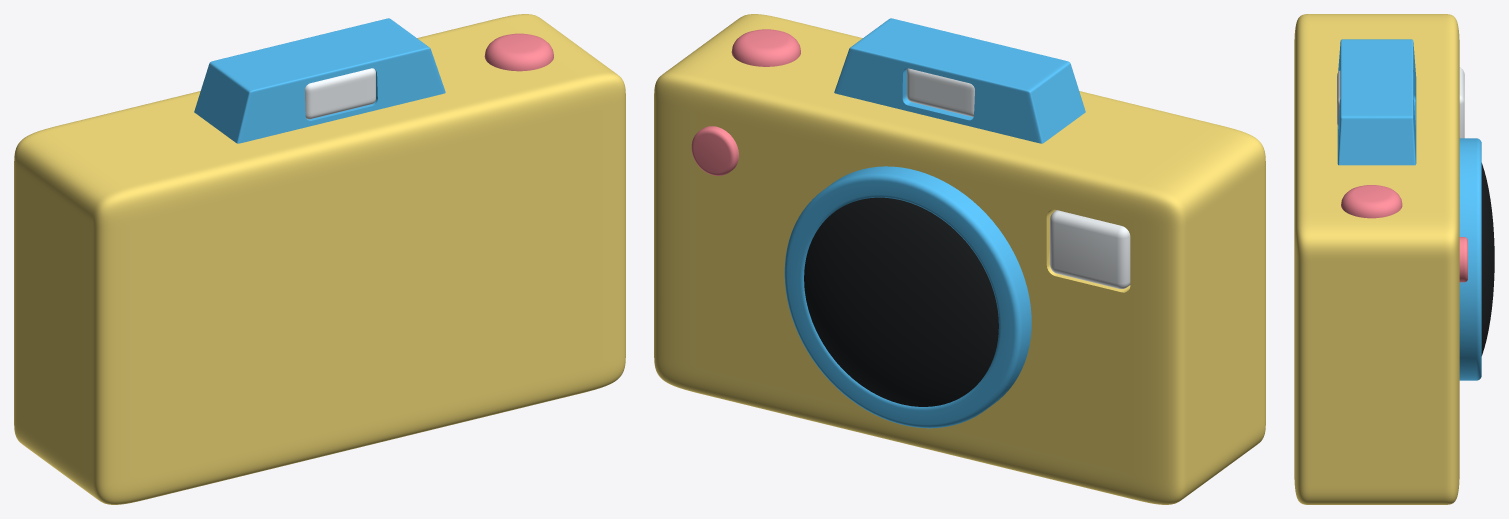
Rendered from camera.glb.
The picture shows the model from 3 angles, left to right: view 1: azimuth 30°, elevation 25°; view 2: azimuth 150°, elevation 25°; view 3: azimuth 270°, elevation 25°; orthographic projection. The views are drawn at different scales.
Visible parts, largest first — view 1: Object_2, Object_4, Object_7, Object_6, Object_8, Object_12, Object_13; view 2: Object_2, Object_11, Object_10, Object_12, Object_4, Object_5, Object_13, Object_8, Object_7; view 3: Object_2, Object_4, Object_10, Object_6, Object_13, Object_11, Object_5, Object_12, Object_8, Object_7.
Part boxes in pixels (x1,y1,x2,y2): Object_2: (14,14,625,504); Object_4: (211,18,429,91); Object_7: (209,48,437,143); Object_6: (238,48,444,143); Object_8: (194,56,320,142); Object_12: (305,68,375,119); Object_13: (484,33,553,71); Object_2: (654,14,1265,504); Object_11: (804,197,998,406); Object_10: (784,166,1031,428); Object_12: (907,68,1130,288); Object_4: (850,18,1068,90); Object_5: (834,19,1041,143); Object_13: (691,29,800,175); Object_8: (965,48,1084,143); Object_7: (850,48,1085,143); Object_2: (1294,14,1459,504); Object_4: (1341,39,1412,116); Object_10: (1459,138,1481,380); Object_6: (1337,41,1412,165); Object_13: (1341,185,1467,282); Object_11: (1481,163,1494,355); Object_5: (1338,39,1416,165); Object_12: (1337,67,1464,138); Object_8: (1341,39,1376,75); Object_7: (1337,44,1416,162).
Bounding box in the file's own units: 216 × 141 × 79.66.
